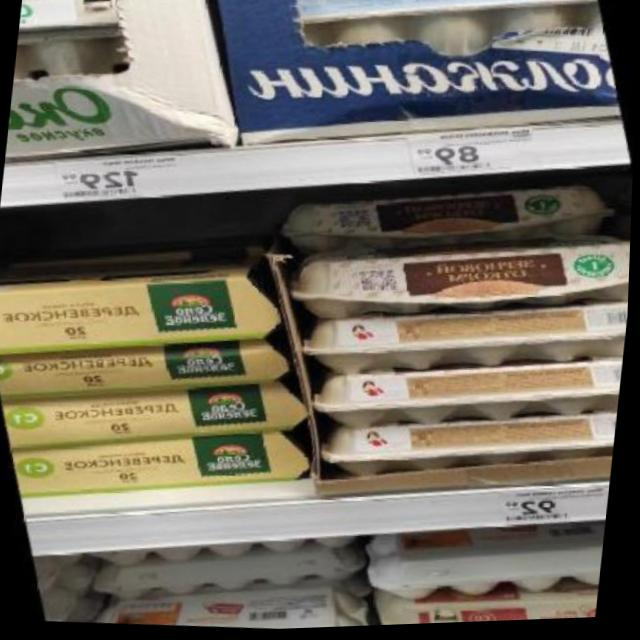Egg: (277, 214, 633, 347), (271, 161, 631, 283), (62, 562, 385, 638), (374, 560, 604, 629), (12, 0, 143, 99), (389, 603, 600, 628)
